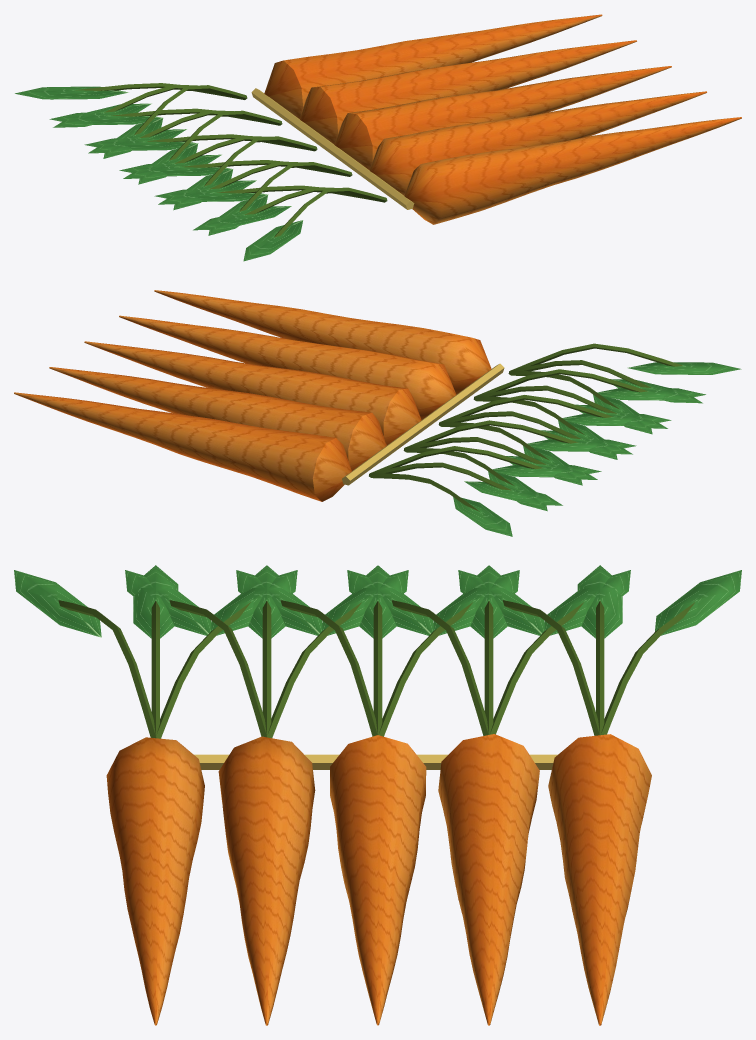
File: veg_carrots_bunch.glb
3 renders of one model, top to bottom at view 1: azimuth 30°, elevation 25°; view 2: azimuth 150°, elevation 25°; view 3: azimuth 270°, elevation 25°, orthographic. The views are drawn at different scales.
Visible parts, largest first — view 1: veg_carrots_bunch; view 2: veg_carrots_bunch; view 3: veg_carrots_bunch.
Part boxes in pixels (bbox=[...]): veg_carrots_bunch: bbox=[15, 14, 741, 261]; veg_carrots_bunch: bbox=[14, 290, 741, 536]; veg_carrots_bunch: bbox=[14, 565, 741, 1025].
Bounding box in the file's own units: 0.3082 × 0.0387 × 0.2228.
4 materials, 2 textured.
